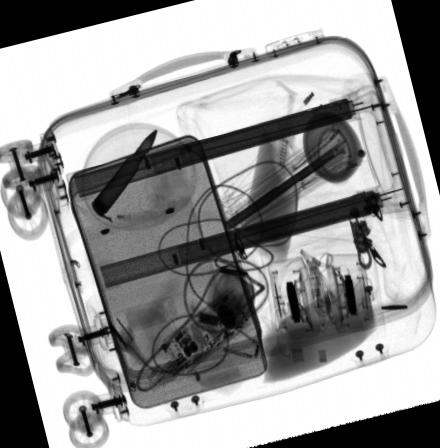Bullet: (90, 128, 158, 217)
